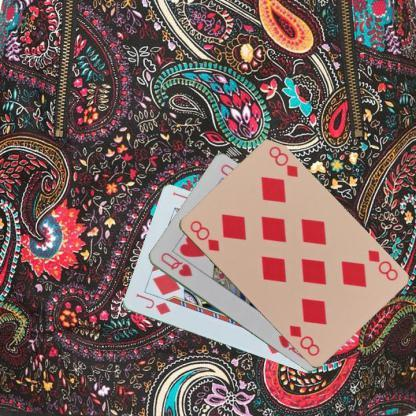8d: (186, 218, 220, 253), (364, 247, 398, 282)
Jd: (132, 291, 172, 316)
Qh: (158, 249, 194, 278)
